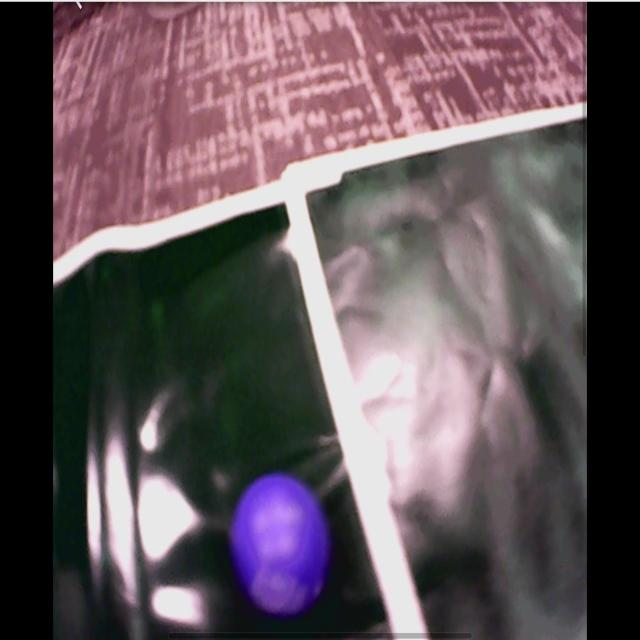ball: (231, 474, 329, 613)
